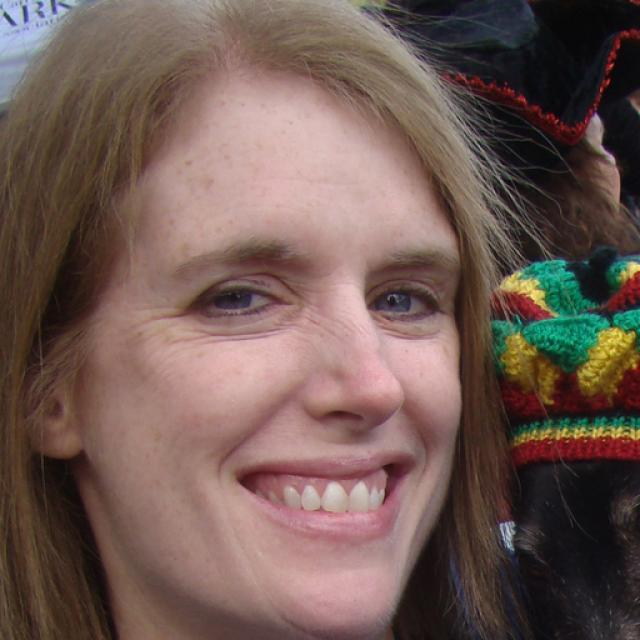happy: (82, 79, 470, 630)
